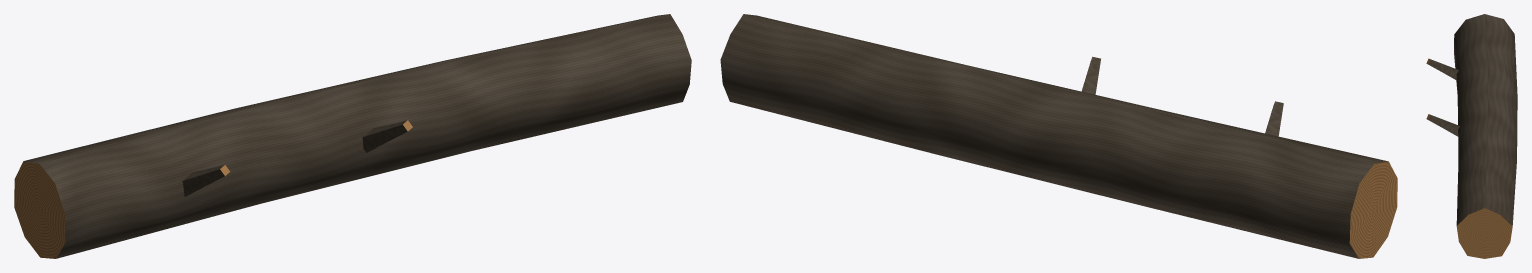
File: SS_Log_Fresh_01_LOD2.fbx
The picture shows the model from 3 angles, left to right: view 1: azimuth 30°, elevation 25°; view 2: azimuth 150°, elevation 25°; view 3: azimuth 270°, elevation 25°; orthographic projection. The views are drawn at different scales.
Visible parts, largest first — view 1: SS_Log_Fresh_01_LOD2_Mesh; view 2: SS_Log_Fresh_01_LOD2_Mesh; view 3: SS_Log_Fresh_01_LOD2_Mesh.
Boxes of the visible parts, x1,y1,x2,y2 form: SS_Log_Fresh_01_LOD2_Mesh: [14, 14, 691, 258]; SS_Log_Fresh_01_LOD2_Mesh: [720, 14, 1397, 258]; SS_Log_Fresh_01_LOD2_Mesh: [1426, 14, 1517, 258].
Bounding box in the file's own units: 311 × 44.97 × 62.48.
